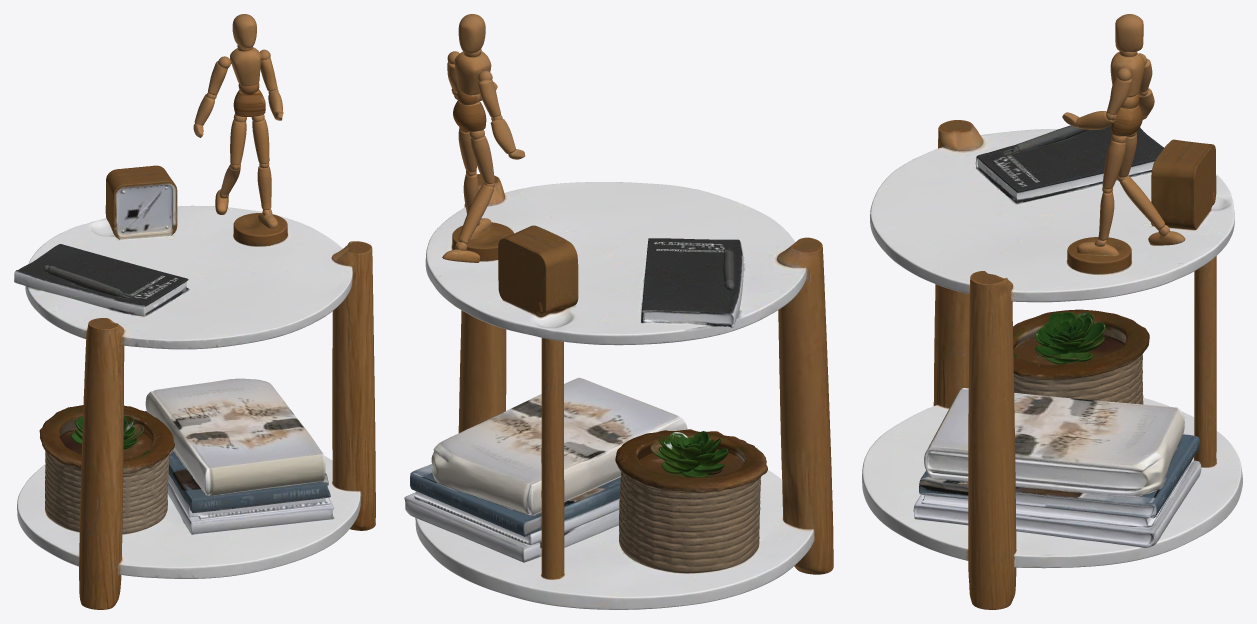
File: oxmic-modern-round-side-table-home-decor-for-living-room-bed.glb
3 renders of one model, left to right at view 1: azimuth 30°, elevation 25°; view 2: azimuth 150°, elevation 25°; view 3: azimuth 270°, elevation 25°, orthographic. The views are drawn at different scales.
Bounding box in the file's own units: 1.28 × 1.9 × 1.18.
1 material, 1 textured.
